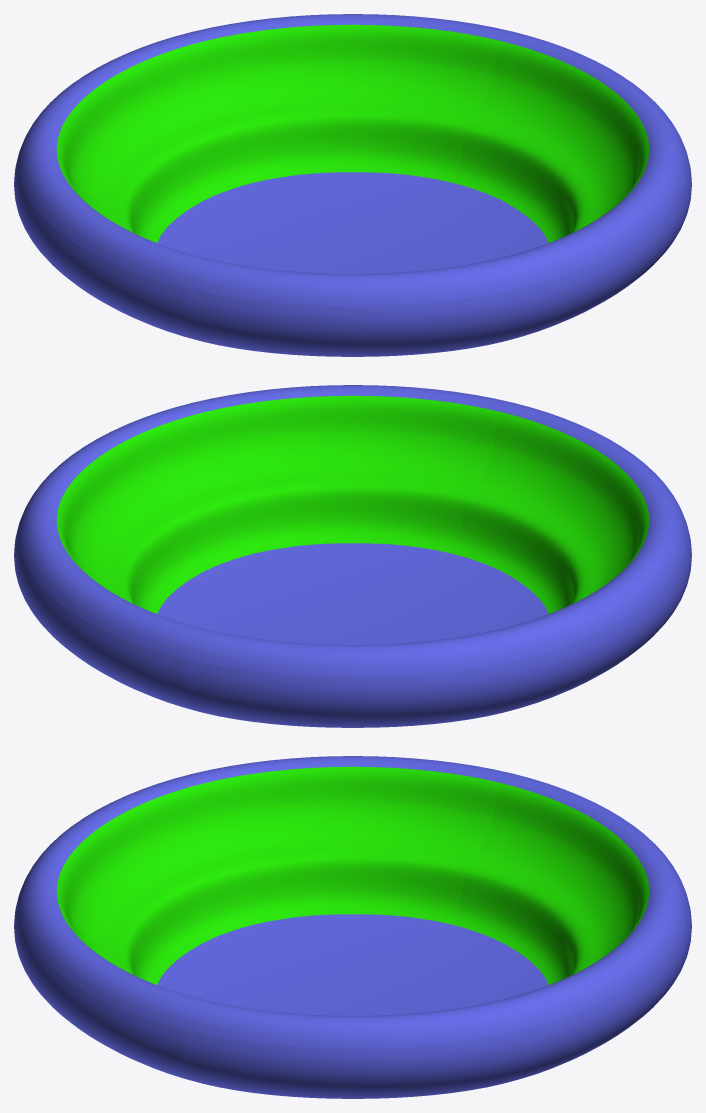
The model's file is Smooth_Dig.fbx.
3 views of the same model, one above another, from view 1: azimuth 30°, elevation 25°; view 2: azimuth 150°, elevation 25°; view 3: azimuth 270°, elevation 25° (orthographic).
Visible parts, largest first — view 1: DigSite; view 2: DigSite; view 3: DigSite.
Part boxes in pixels (box(x1,y1,x2,y2)): DigSite: box(14, 14, 691, 356); DigSite: box(14, 385, 691, 727); DigSite: box(14, 756, 691, 1098).
Size of the model in its own units: 0.942 by 0.1884 by 0.9464.
